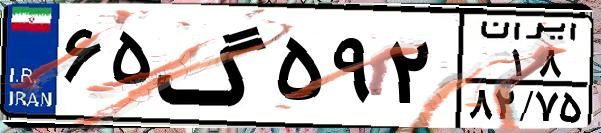1: (508, 27, 537, 80)
2: (385, 28, 445, 110), (495, 70, 520, 125)
5: (270, 28, 330, 110), (110, 28, 156, 98), (560, 70, 590, 125)
6: (57, 26, 110, 100)
7: (535, 70, 560, 125)
8: (537, 27, 568, 80), (470, 70, 495, 125)
9: (330, 28, 385, 110)
گ: (156, 12, 270, 120)
